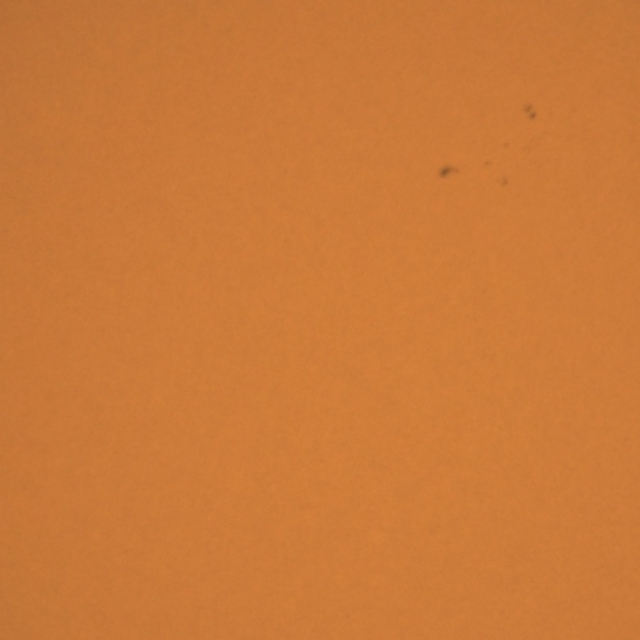sunspot: (436, 164, 461, 180), (522, 102, 538, 122), (496, 175, 511, 190), (483, 159, 492, 168)
